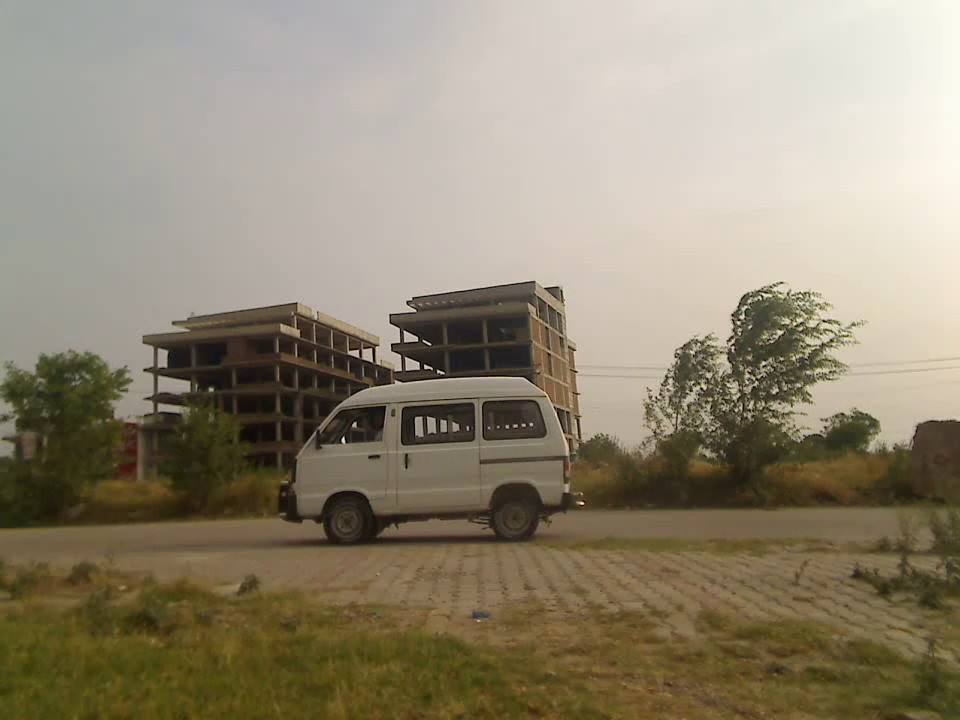van: (271, 374, 592, 549)
